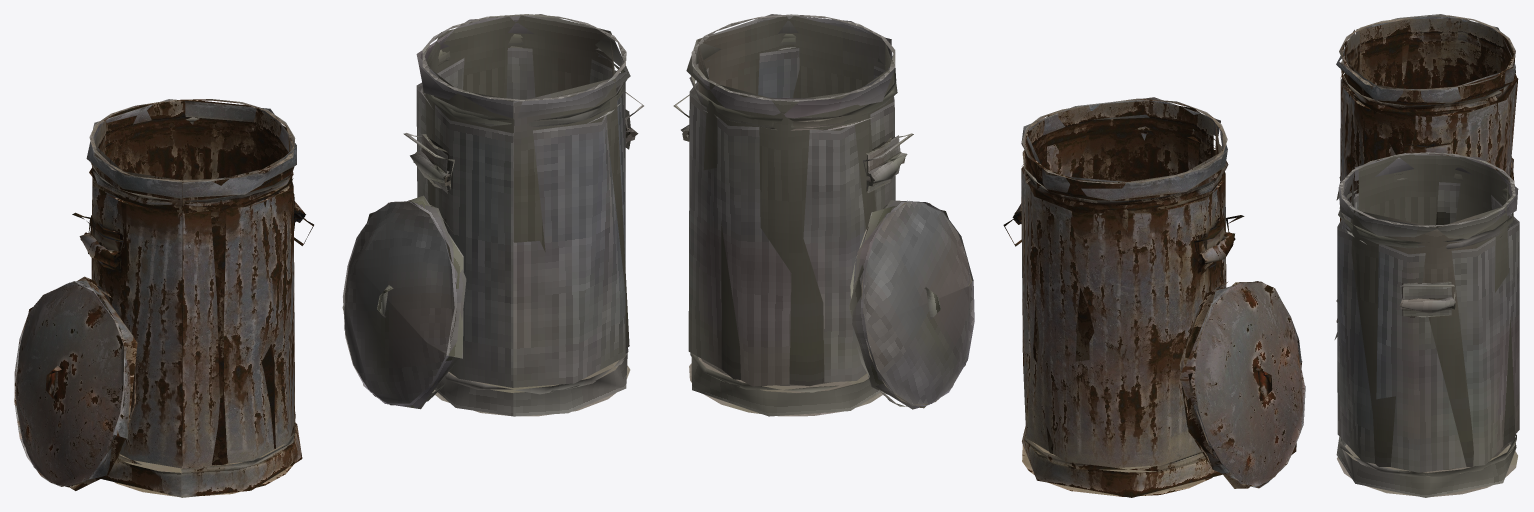
File: metal_trash_can.glb
The picture shows the model from 3 angles, left to right: view 1: azimuth 30°, elevation 25°; view 2: azimuth 150°, elevation 25°; view 3: azimuth 270°, elevation 25°; orthographic projection. The views are drawn at different scales.
Visible parts, largest first — view 1: metal_trash_can_handle_left; view 2: metal_trash_can_handle_left; view 3: metal_trash_can_handle_left.
Boxes of the visible parts, box(x1,y1,x2,y2) form: metal_trash_can_handle_left: box(14, 14, 643, 497); metal_trash_can_handle_left: box(673, 14, 1305, 497); metal_trash_can_handle_left: box(1334, 14, 1519, 497).
Bounding box in the file's own units: 1.77 × 0.9068 × 0.5649.
Materials: 3 (3 with a texture image).
